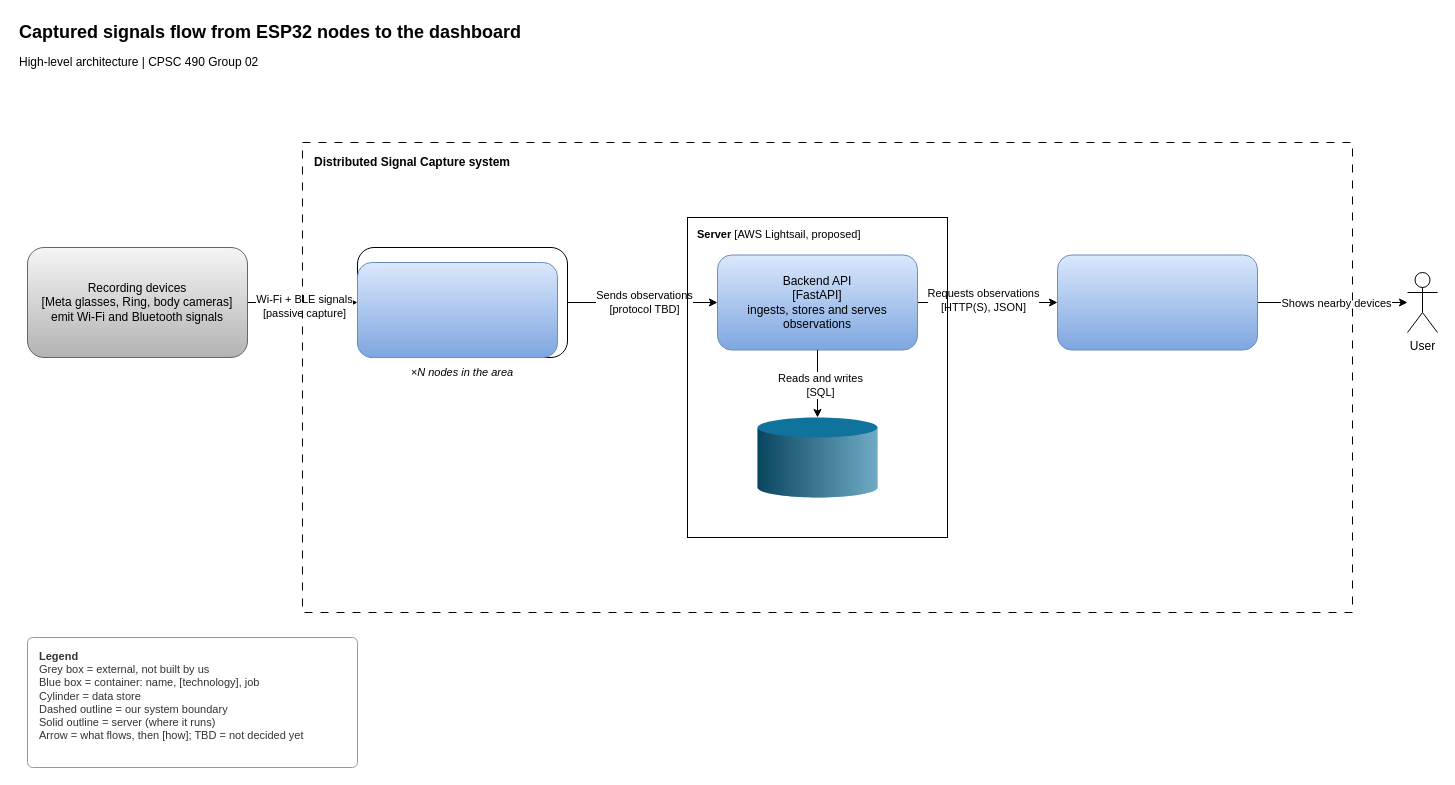
The diagram is 1455 pixels wide and 785 high, and some of its shapes have lost their labels. Here are the shapes that lost their labels. From the top down, the centre of each, then its label:
At (x=457, y=310): "ESP32 capture node [C/C++ firmware] scans Wi-Fi + Bluetooth".
At (x=1157, y=302): "Dashboard [framework TBD] shows nearby devices".
At (x=817, y=457): "Database [PostgreSQL] Observations, devices".
